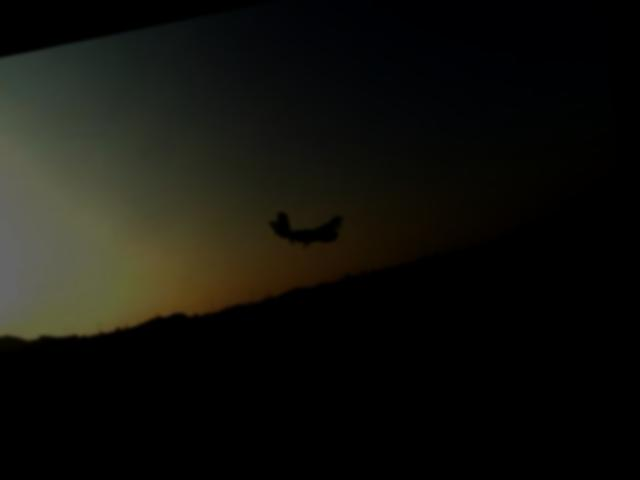uav: (260, 189, 357, 262)
